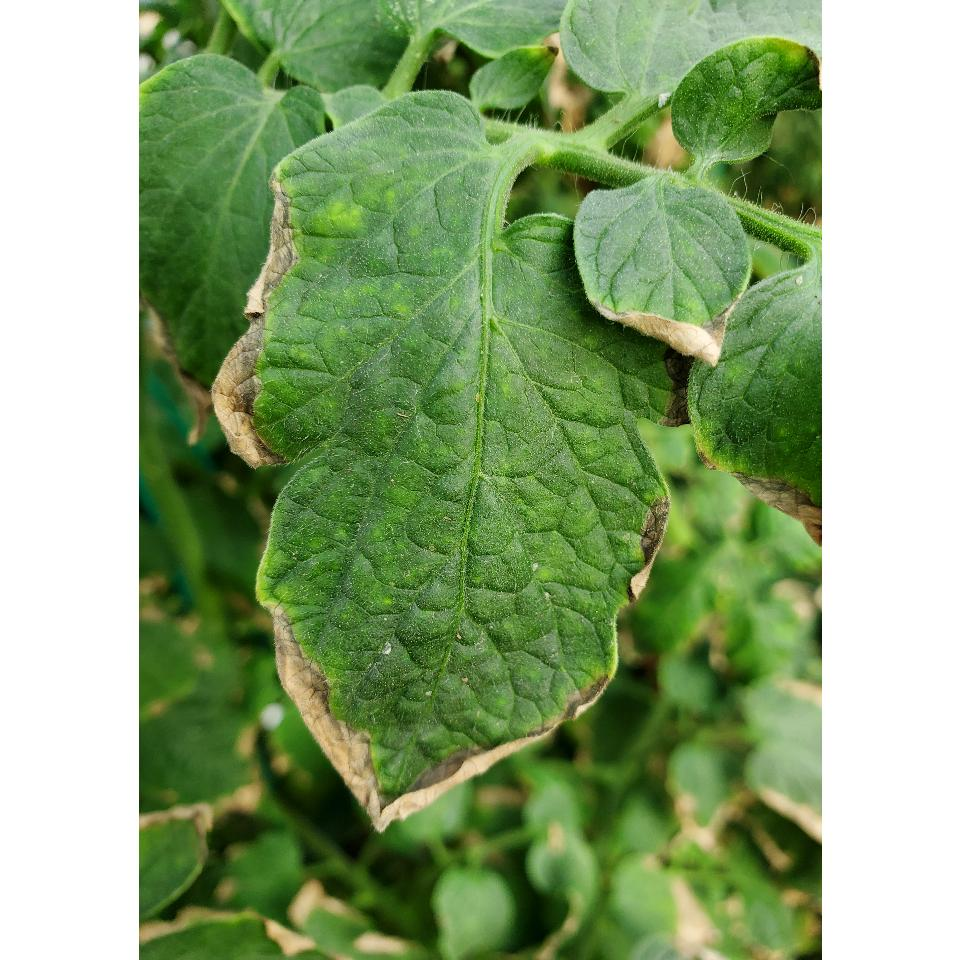tomato_bacterial_blight: (200, 136, 680, 834)
